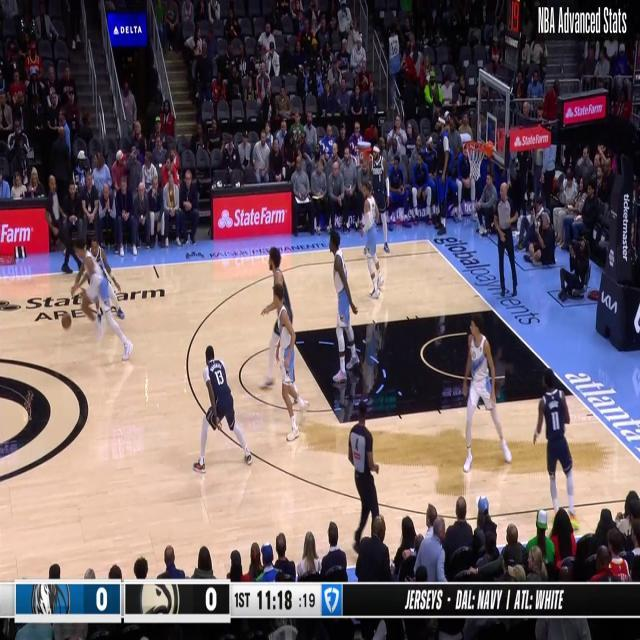ball: (60, 310, 72, 332)
player: (252, 240, 316, 426), (536, 358, 588, 539), (460, 312, 513, 476), (261, 288, 315, 447), (66, 238, 132, 367), (191, 343, 253, 477), (328, 228, 360, 386), (74, 234, 122, 328), (360, 135, 394, 255), (358, 178, 384, 302)
